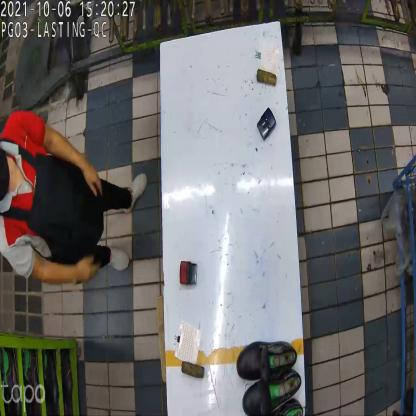shoes: (236, 338, 304, 415)
stamp: (257, 106, 276, 142), (178, 258, 198, 288)
